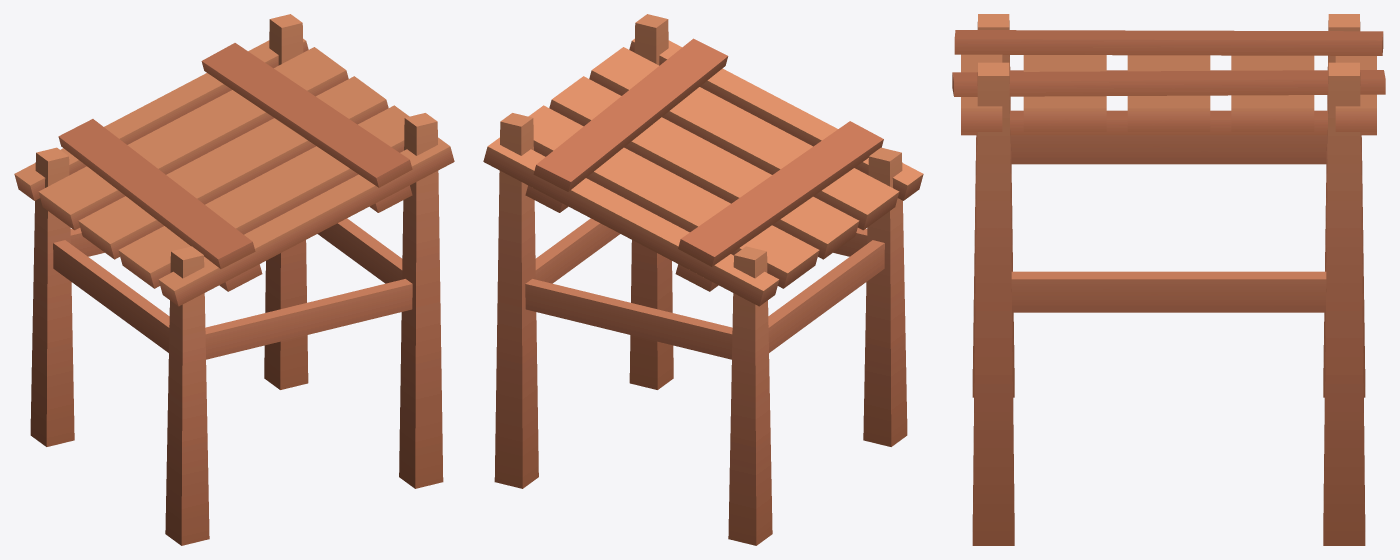
File: structure-roof.glb
The picture shows the model from 3 angles, left to right: view 1: azimuth 30°, elevation 25°; view 2: azimuth 150°, elevation 25°; view 3: azimuth 270°, elevation 25°; orthographic projection. The views are drawn at different scales.
Parts seen in each view (by area): view 1: structure-roof; view 2: structure-roof; view 3: structure-roof.
Part boxes in pixels (x1,y1,x2,y2): structure-roof: (14,14,454,545); structure-roof: (483,14,923,545); structure-roof: (952,14,1385,545).
Bounding box in the file's own units: 0.5355 × 0.6572 × 0.5518.
Materials: 1 (1 with a texture image).
